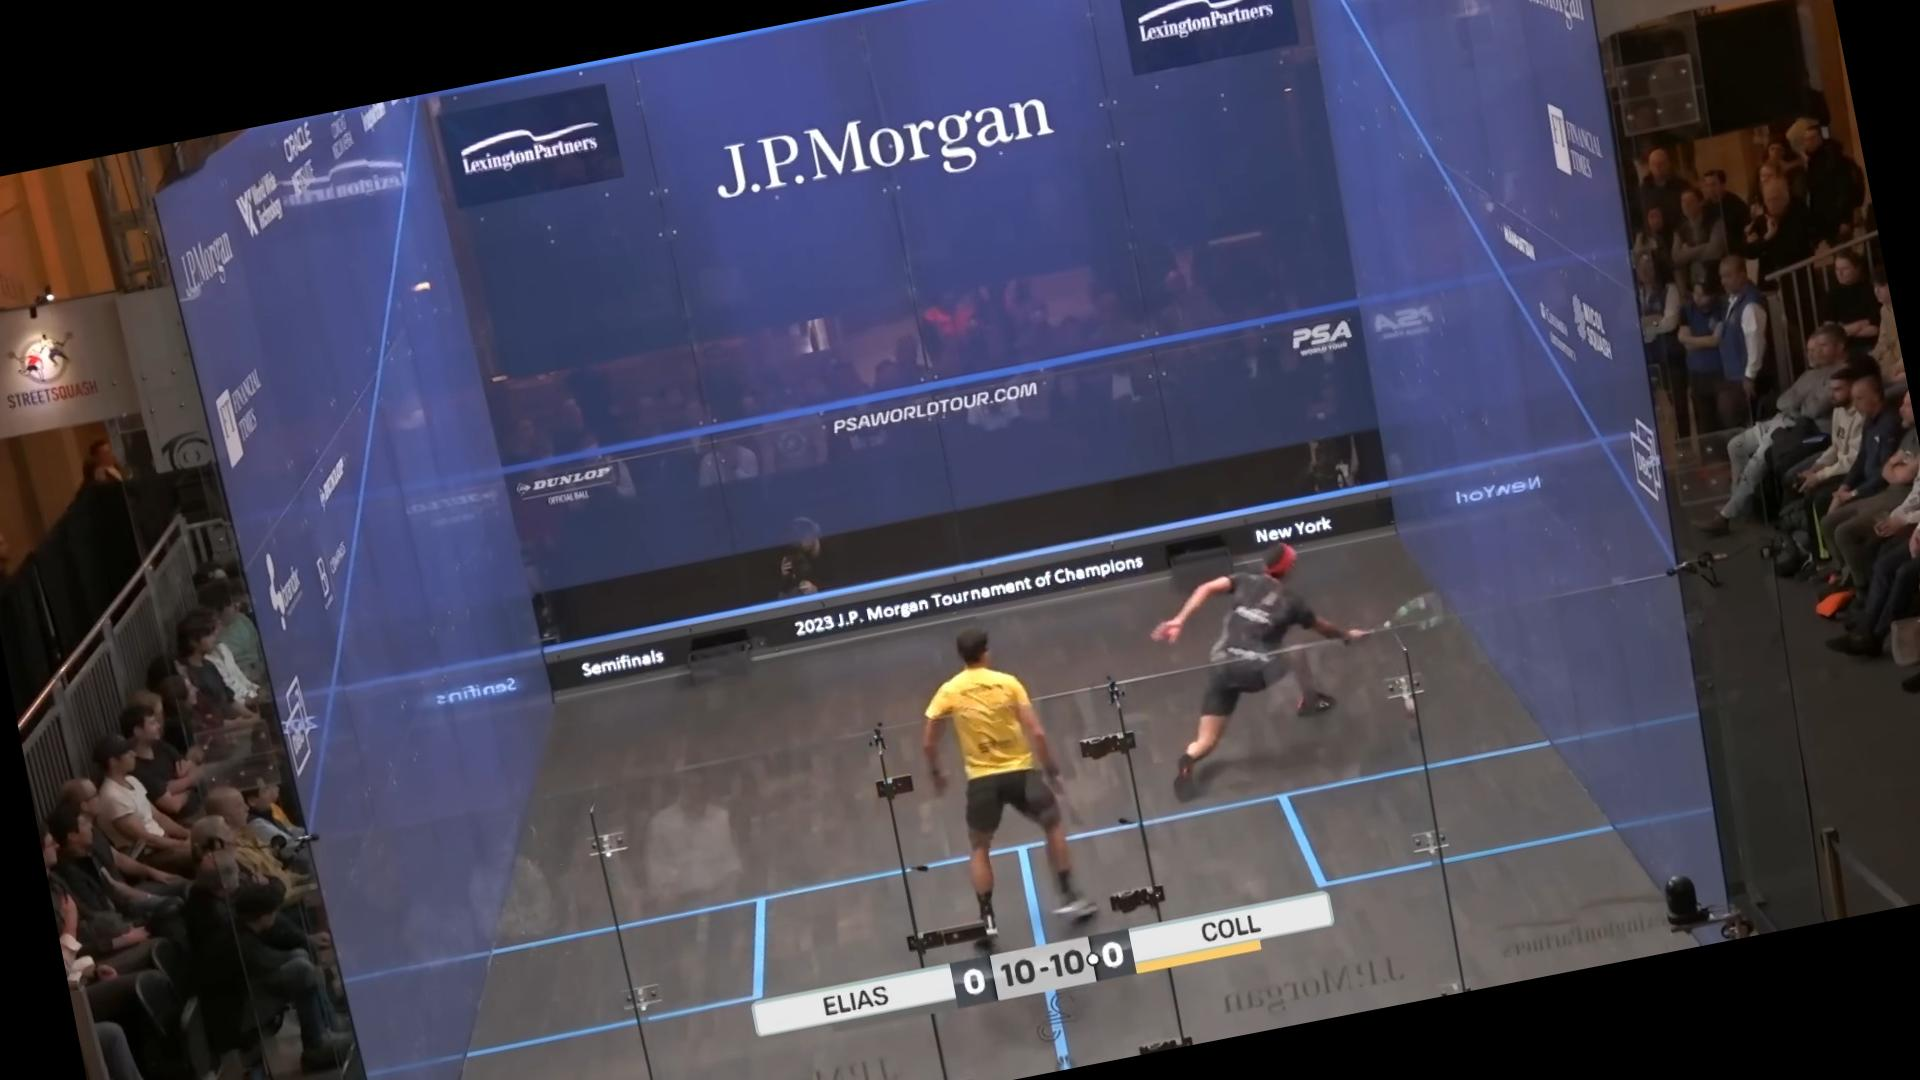Racket: (1327, 579, 1457, 665)
